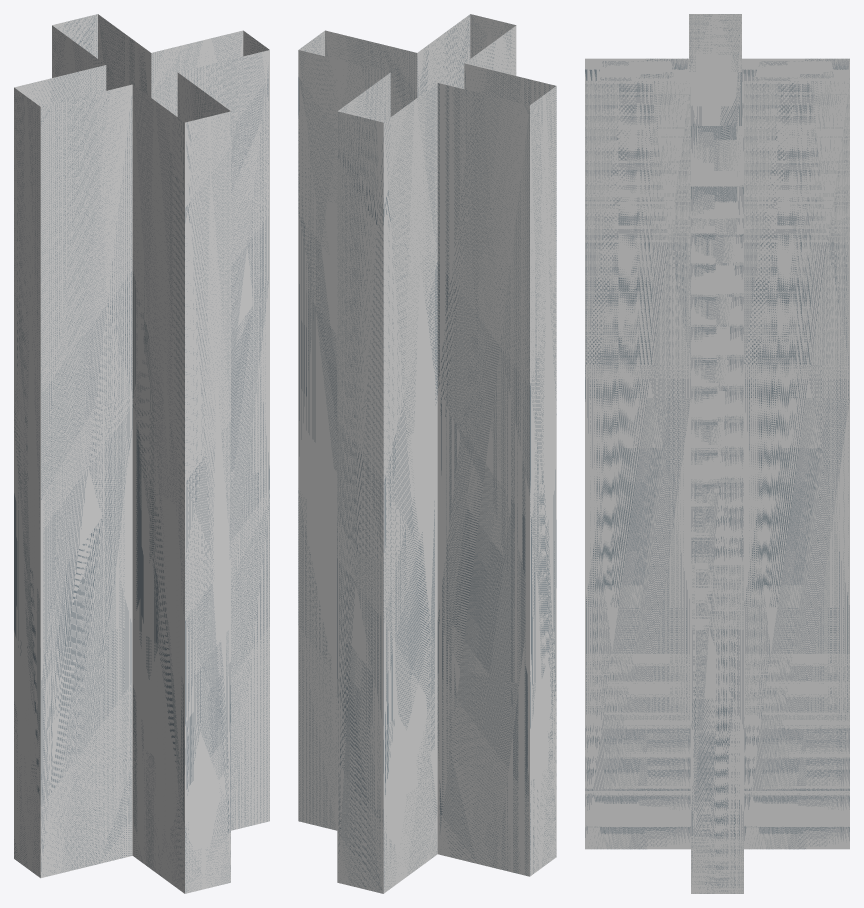
File: Corner_ds_cross_050x050x025x4.dae
3 renders of one model, left to right at view 1: azimuth 30°, elevation 25°; view 2: azimuth 150°, elevation 25°; view 3: azimuth 270°, elevation 25°, orthographic.
Parts seen in each view (by area): view 1: group_0; view 2: group_0; view 3: group_0.
Part boxes in pixels (bbox=[...]): group_0: bbox=[14, 14, 269, 893]; group_0: bbox=[298, 14, 556, 893]; group_0: bbox=[585, 14, 849, 893].
Bounding box in the file's own units: 49.21 × 49.21 × 157.
